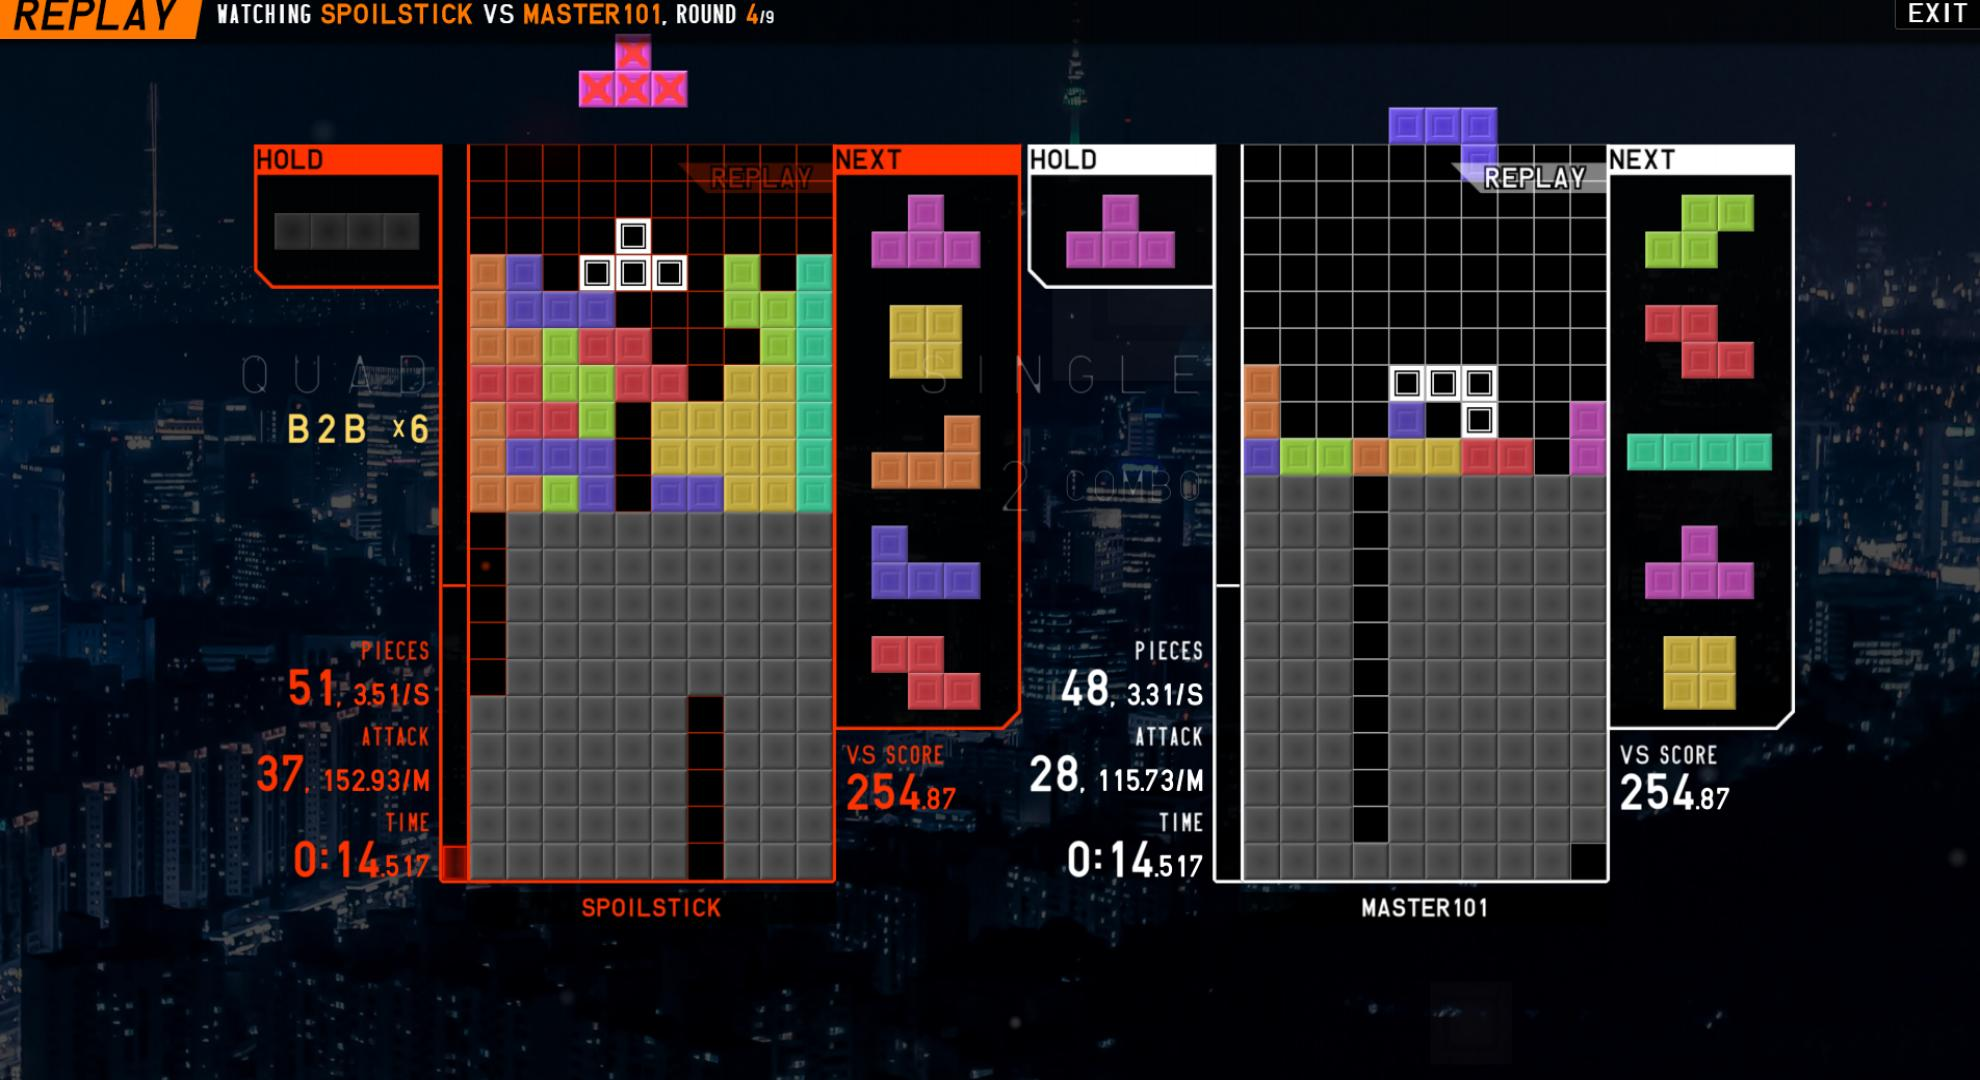tspin: (653, 283, 767, 407)
